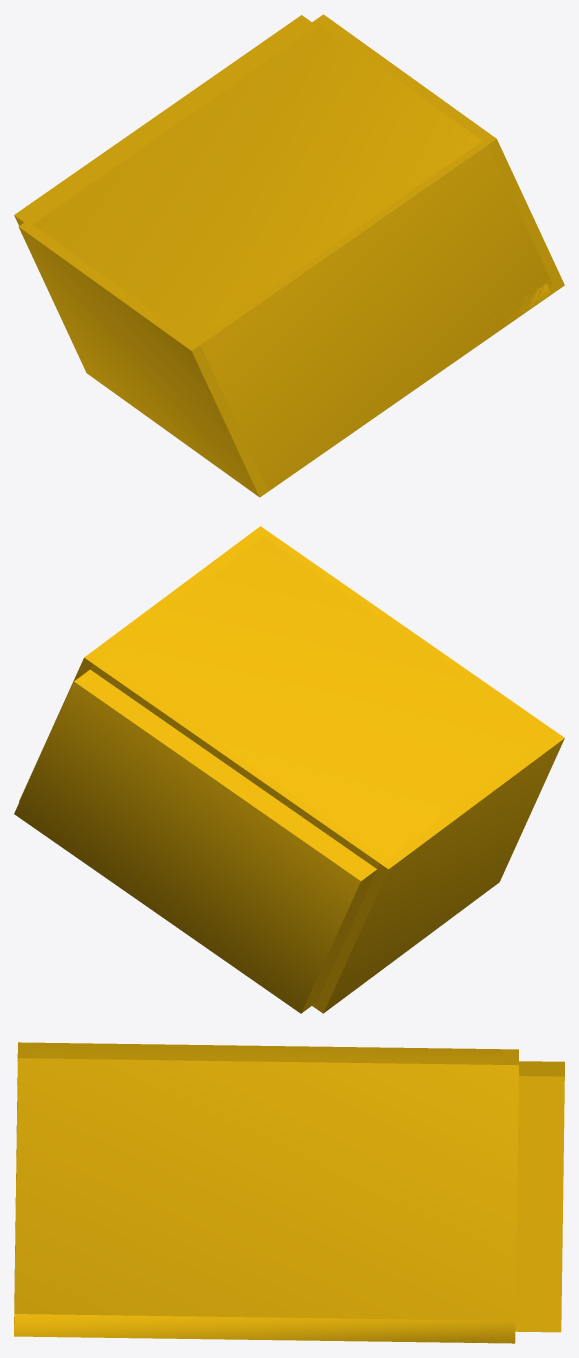
File: capture-cabinet.glb
3 views of the same model, one above another, from view 1: azimuth 30°, elevation 25°; view 2: azimuth 150°, elevation 25°; view 3: azimuth 270°, elevation 25° (orthographic). The views are drawn at different scales.
Visible parts, largest first — view 1: HCRG_Cabinet1087_SourceFit01_rear_panel_001, HCRG_Cabinet1087_SourceFit01_top_panel_001, HCRG_Cabinet1087_SourceFit01_outer_side__1_001, HCRG_Cabinet1087_SourceFit01_estimated_plinth_001, HCRG_Cabinet1087_SourceFit01_outer_side_1_001, HCRG_Cabinet1087_SourceFit01_bottom_panel_001; view 2: HCRG_Cabinet1087_SourceFit01_rear_panel_001, HCRG_Cabinet1087_SourceFit01_estimated_plinth_001, HCRG_Cabinet1087_SourceFit01_outer_side__1_001, HCRG_Cabinet1087_SourceFit01_bottom_panel_001, HCRG_Cabinet1087_SourceFit01_outer_side_1_001, HCRG_Cabinet1087_SourceFit01_top_panel_001; view 3: HCRG_Cabinet1087_SourceFit01_outer_side_1_001, HCRG_Cabinet1087_SourceFit01_estimated_plinth_001, HCRG_Cabinet1087_SourceFit01_front_jamb_1_001, HCRG_Cabinet1087_SourceFit01_rear_panel_001, HCRG_Cabinet1087_SourceFit01_outer_side__1_001.
Part boxes in pixels (x1,y1,x2,y2): HCRG_Cabinet1087_SourceFit01_rear_panel_001: [33, 24, 481, 340]; HCRG_Cabinet1087_SourceFit01_top_panel_001: [195, 141, 553, 491]; HCRG_Cabinet1087_SourceFit01_outer_side__1_001: [18, 220, 268, 497]; HCRG_Cabinet1087_SourceFit01_estimated_plinth_001: [14, 15, 311, 225]; HCRG_Cabinet1087_SourceFit01_outer_side_1_001: [315, 14, 564, 285]; HCRG_Cabinet1087_SourceFit01_bottom_panel_001: [27, 20, 319, 224]; HCRG_Cabinet1087_SourceFit01_rear_panel_001: [98, 536, 550, 858]; HCRG_Cabinet1087_SourceFit01_estimated_plinth_001: [14, 669, 376, 1013]; HCRG_Cabinet1087_SourceFit01_outer_side__1_001: [315, 732, 564, 1013]; HCRG_Cabinet1087_SourceFit01_bottom_panel_001: [90, 659, 385, 868]; HCRG_Cabinet1087_SourceFit01_outer_side_1_001: [19, 526, 268, 801]; HCRG_Cabinet1087_SourceFit01_top_panel_001: [264, 532, 555, 735]; HCRG_Cabinet1087_SourceFit01_outer_side_1_001: [14, 1057, 518, 1343]; HCRG_Cabinet1087_SourceFit01_estimated_plinth_001: [515, 1061, 564, 1332]; HCRG_Cabinet1087_SourceFit01_front_jamb_1_001: [14, 1314, 515, 1343]; HCRG_Cabinet1087_SourceFit01_rear_panel_001: [33, 1043, 503, 1064]; HCRG_Cabinet1087_SourceFit01_outer_side__1_001: [18, 1042, 518, 1049].
Bounding box in the file's own units: 0.9839 × 0.7643 × 0.8777.
